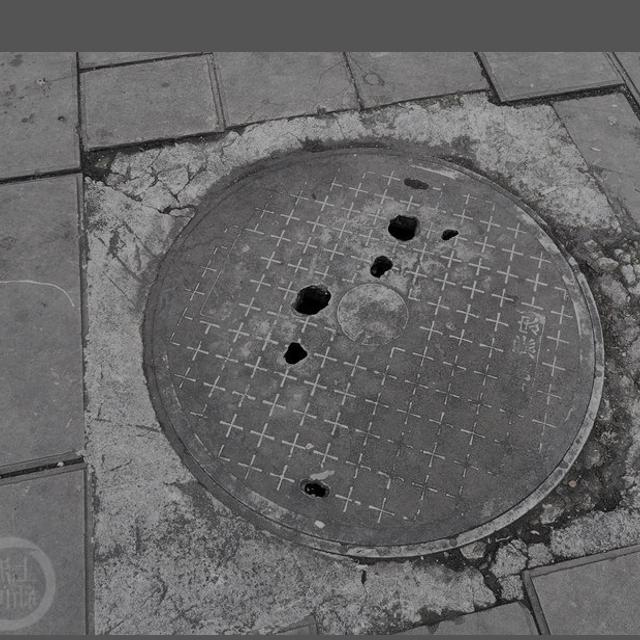circle: (64, 86, 640, 621)
